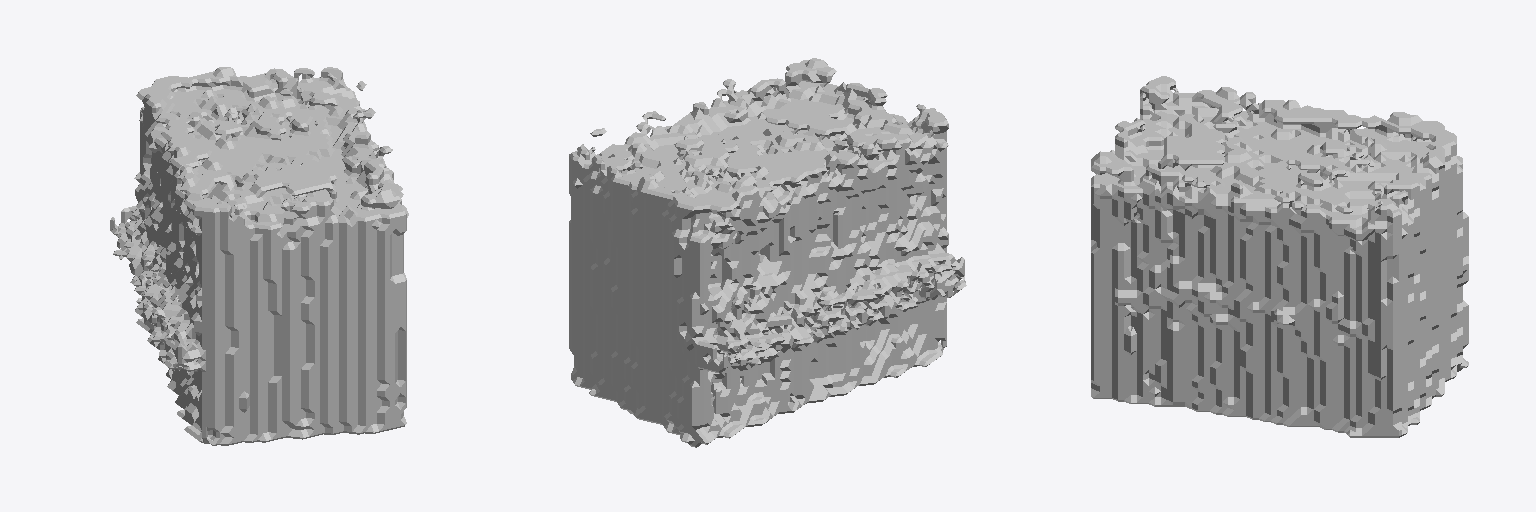
The model's file is gen10_colored.obj.
The picture shows the model from 3 angles: view 1: azimuth 30°, elevation 25°; view 2: azimuth 150°, elevation 25°; view 3: azimuth 270°, elevation 25°; orthographic projection.
Parts seen in each view (by area): view 1: gen10.obj; view 2: gen10.obj; view 3: gen10.obj.
Boxes of the visible parts, <box> form: gen10.obj: <box>110,67,408,445</box>; gen10.obj: <box>569,58,966,447</box>; gen10.obj: <box>1091,76,1468,437</box>.
Bounding box in the file's own units: 54 × 44 × 62.